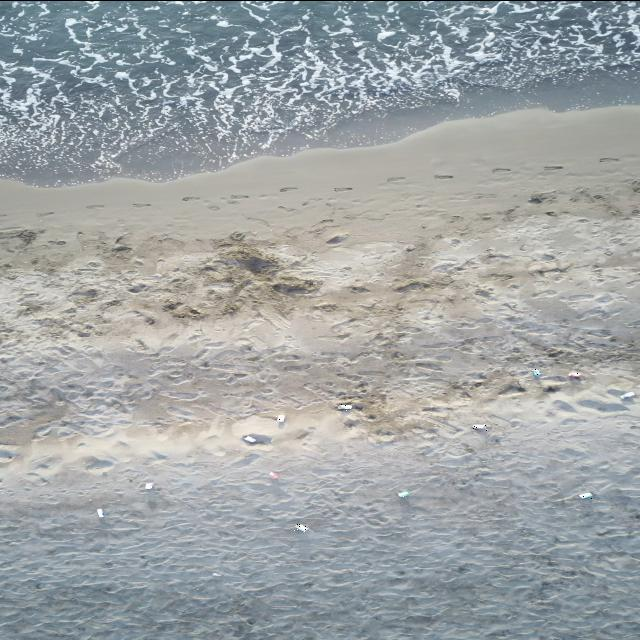Garbage: (241, 433, 271, 444), (241, 435, 256, 443), (622, 391, 635, 400), (577, 492, 592, 499), (396, 489, 409, 497), (295, 523, 307, 531), (472, 424, 487, 430), (268, 471, 279, 479), (276, 413, 284, 423), (567, 371, 580, 377), (337, 404, 352, 409), (96, 508, 103, 516), (532, 368, 539, 376), (144, 482, 152, 488)
